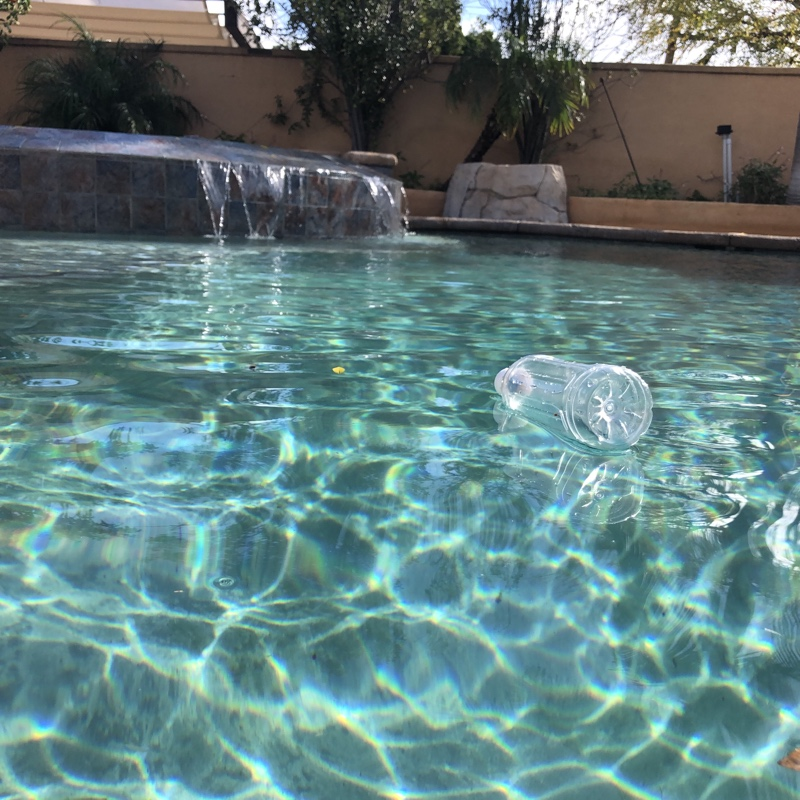Plastic Bottle: (483, 351, 650, 454)
